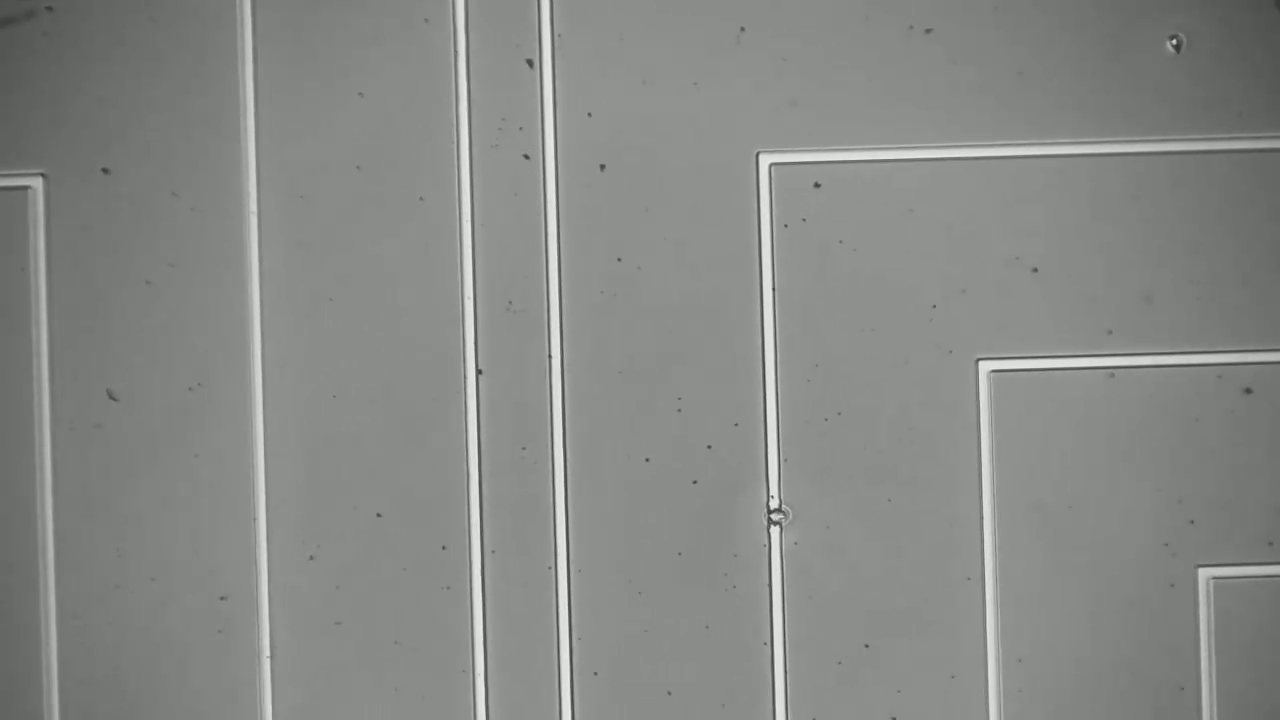stains_enbedded: (756, 487, 801, 539)
